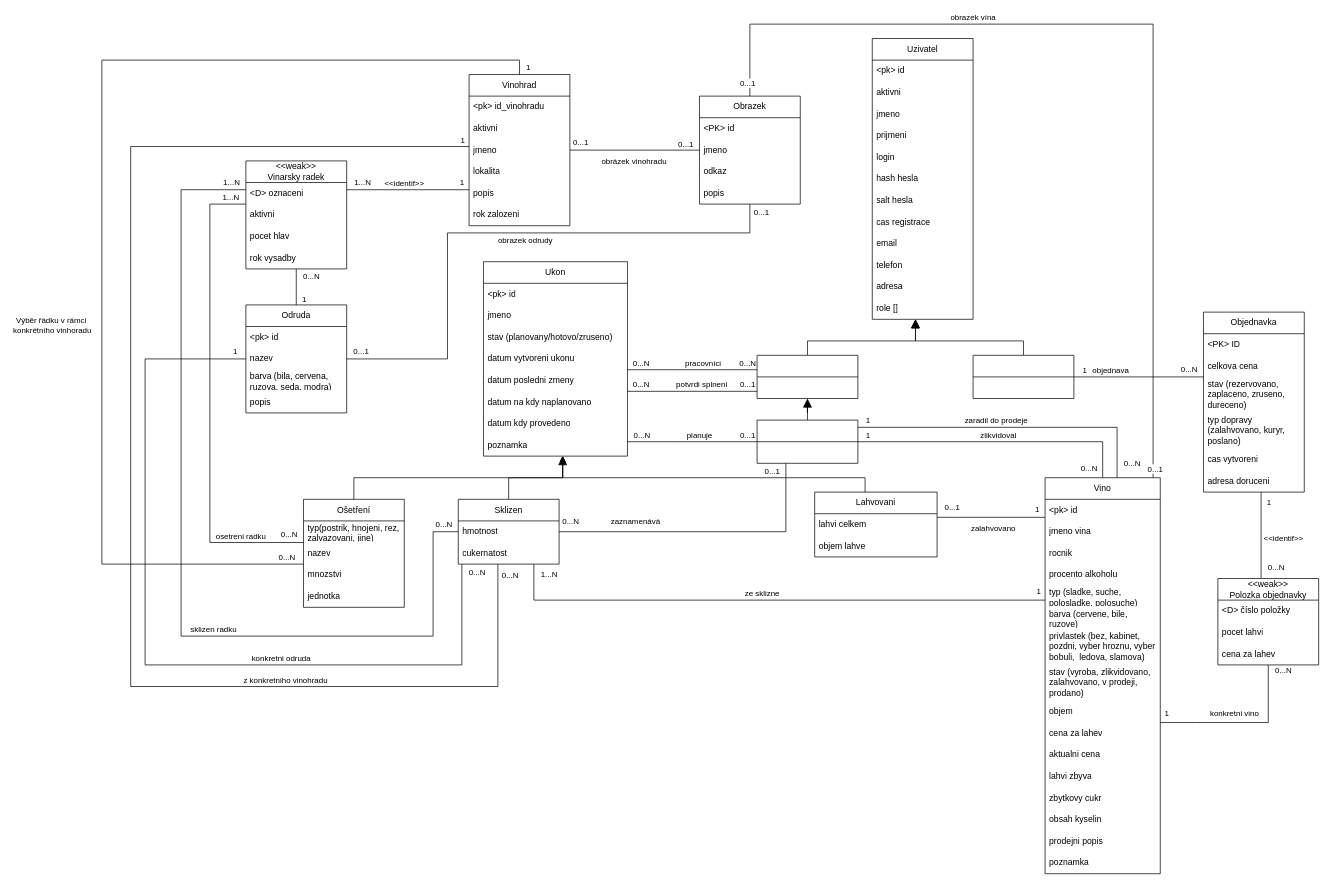
The diagram is 1331 pixels wide and 886 high, and some of its shapes have lost their labels. Here are the shapes that lost their labels. From the top down, the centre of each, then its label:
At (807,377): "Pracovnik".
At (1023,377): "Zakaznik".
At (807,441): "Vinar".
